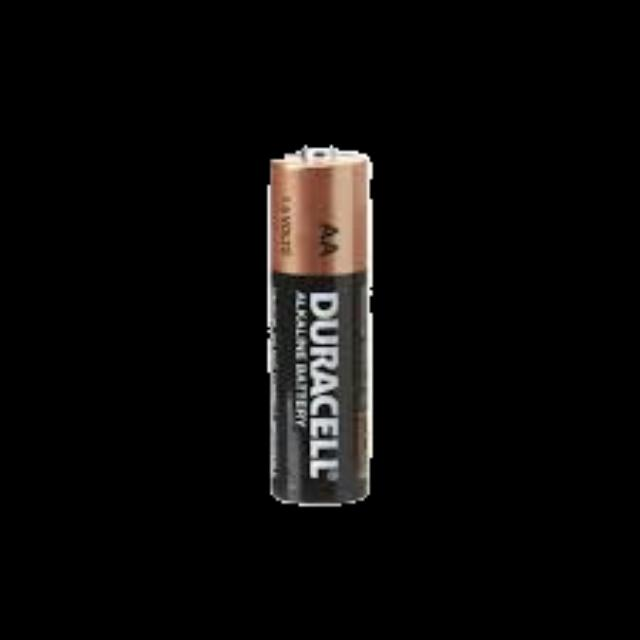Battery: (267, 148, 373, 512)
